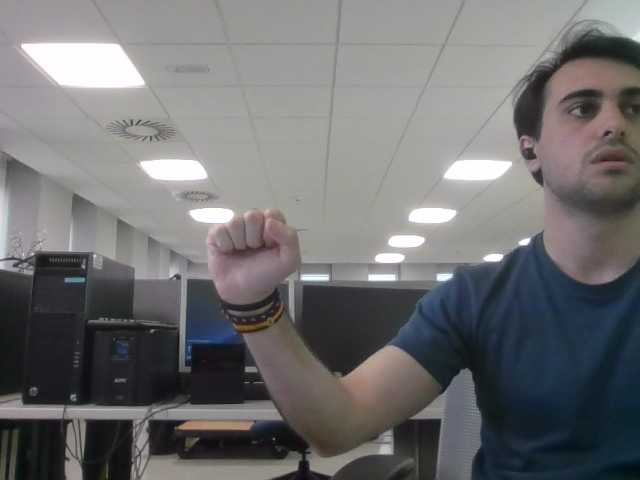Puño: (220, 215, 286, 282)
